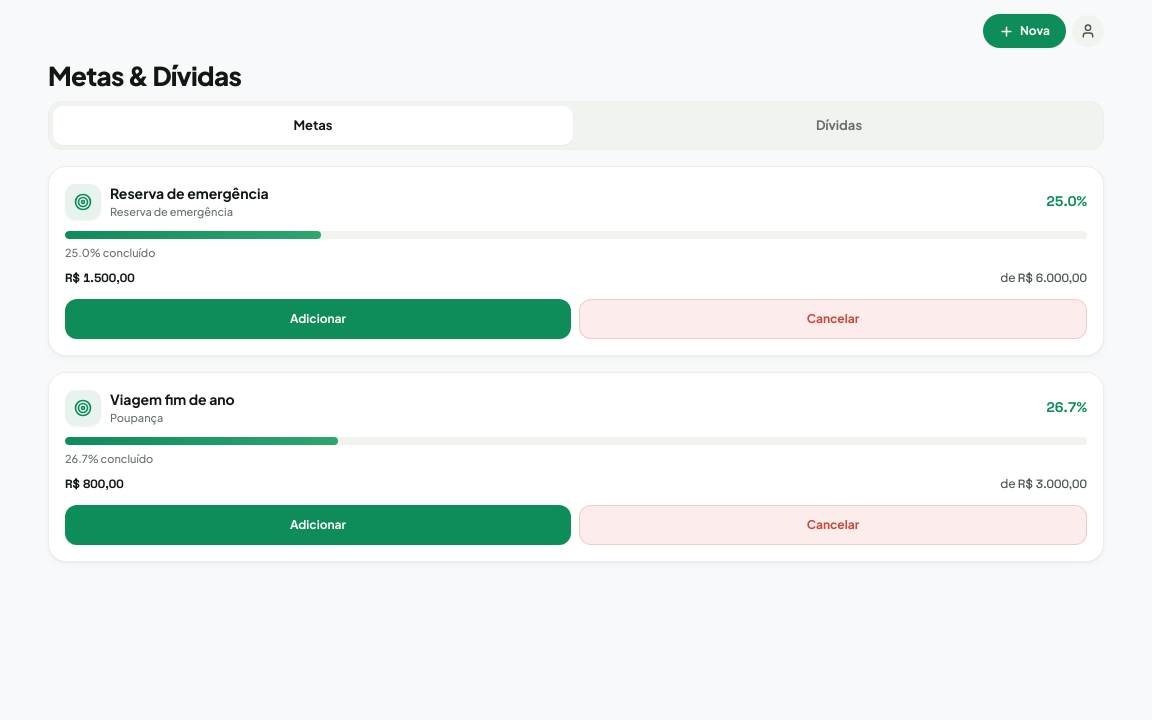
Test: GoalsPage › new goal/debt creation chooser and detail sheet › Novo opens chooser with Meta financeira and Dívida
Click the button "Nova": click(1024, 31) [983,14,1066,48]
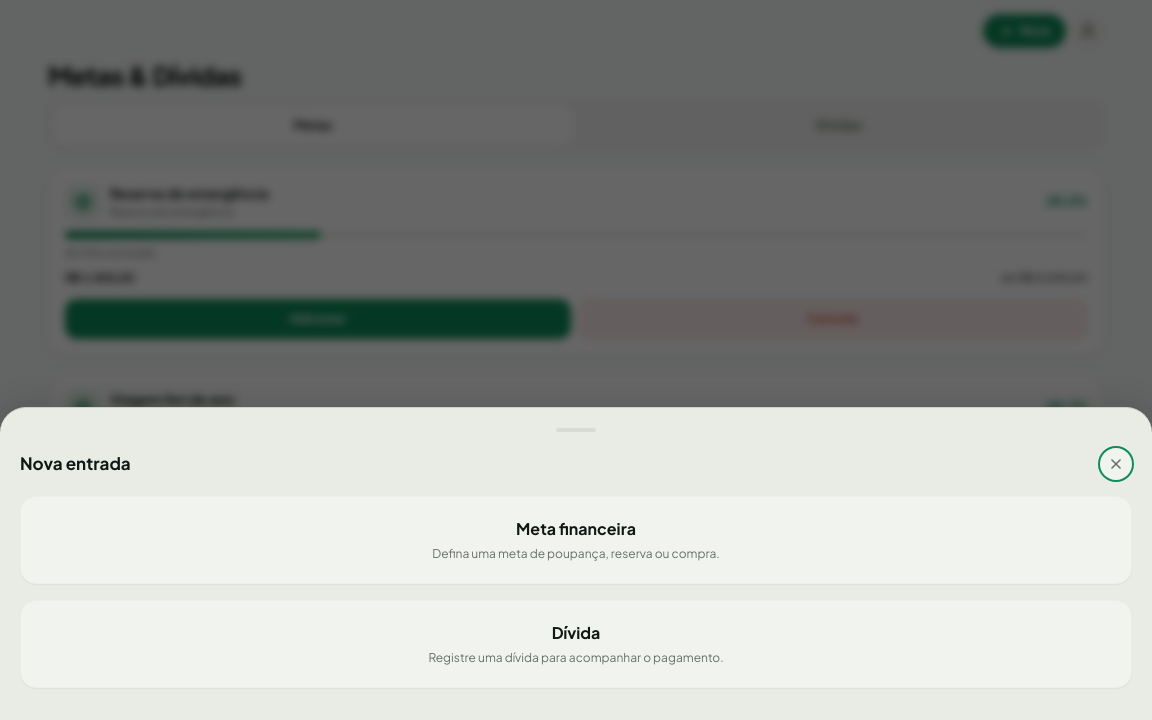
Check: the text "Meta financeira" is shown, box [516,518,636,539]
Check: the text "Dívida" is shown, box [552,622,600,643]
